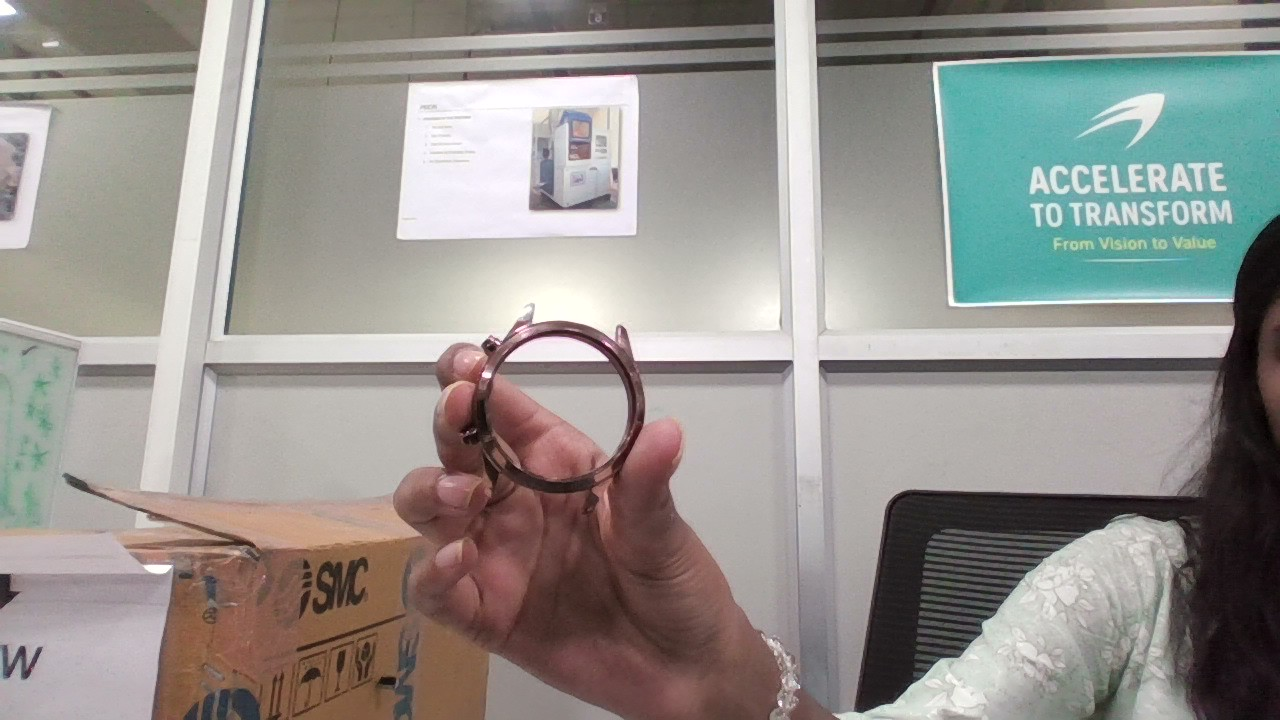case2: (458, 301, 644, 514)
